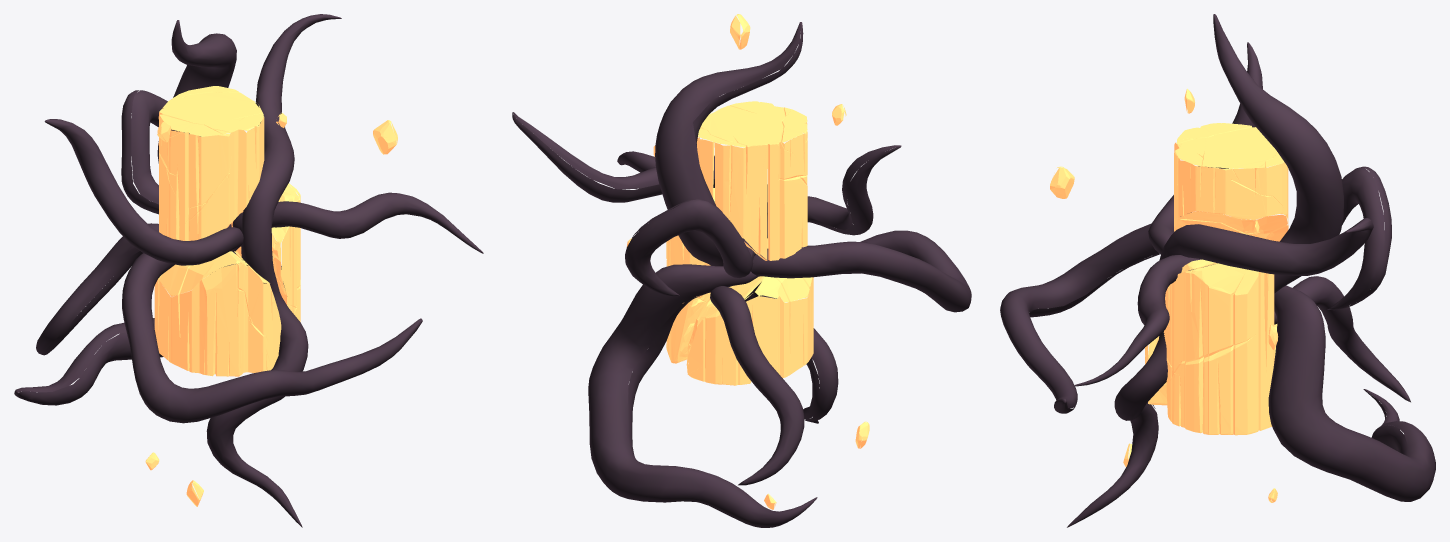
The model's file is lb_prison.glb.
The picture shows the model from 3 angles, left to right: view 1: azimuth 30°, elevation 25°; view 2: azimuth 150°, elevation 25°; view 3: azimuth 270°, elevation 25°; orthographic projection. The views are drawn at different scales.
Visible parts, largest first — view 1: geometry_0, geometry_1; view 2: geometry_0, geometry_1; view 3: geometry_0, geometry_1.
Boxes of the visible parts, x1,y1,x2,y2 form: geometry_0: (14, 14, 483, 527); geometry_1: (145, 86, 397, 506); geometry_0: (512, 22, 971, 527); geometry_1: (626, 14, 869, 509); geometry_0: (1000, 14, 1435, 527); geometry_1: (1050, 88, 1288, 502).
Bounding box in the file's own units: 39.03 × 49.31 × 39.87.
